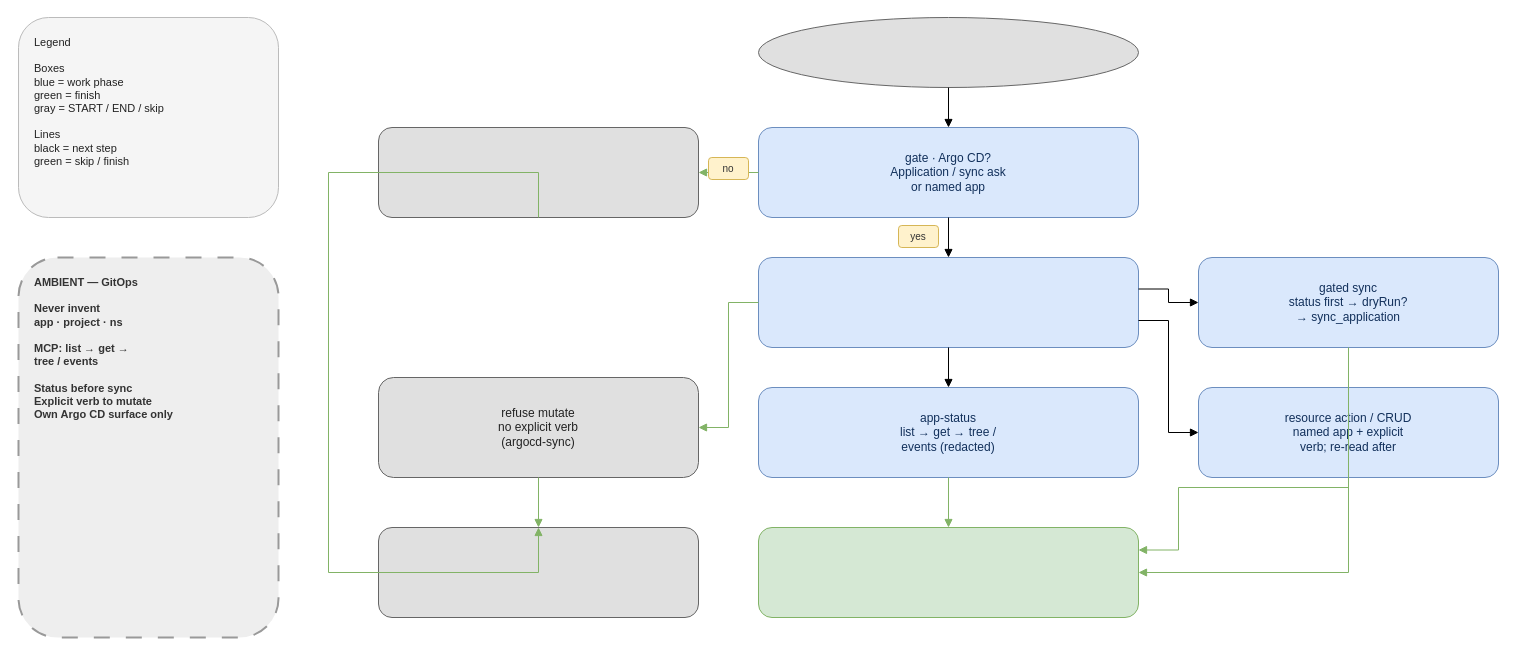
This 1516x656 diagram has some shape labels left out. Here are the shapes that lost their labels. From the top down, the box of each, then its label:
(758, 16, 1138, 88): START — user ask
(378, 126, 698, 218): skip — no Argo CD surface this turn
(758, 256, 1138, 348): route · status vs sync / prune vs resource action / CRUD
(378, 526, 698, 618): END — stay out
(758, 526, 1138, 618): END — app + sync/health (or mutate result)
